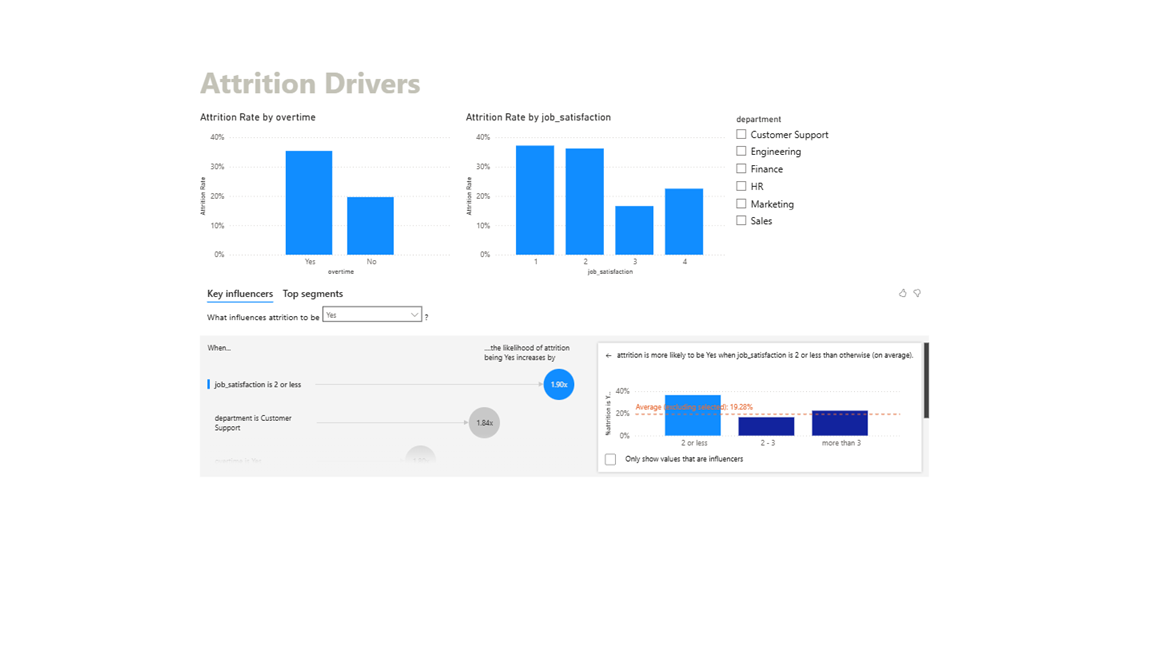

This screenshot's page, from the dashboard's own definition file:
{"tool":"powerbi","page":{"name":"Drivers","canvas":[1280,720],"ordinal":1},"visuals":[{"type":"clusteredColumnChart","fields":{"Y":["fact_employees_clean.Attrition Rate"],"Category":["fact_employees_clean.overtime"]},"box":[0,86,430,280],"z":0},{"type":"clusteredColumnChart","fields":{"Y":["fact_employees_clean.Attrition Rate"],"Category":["fact_employees_clean.job_satisfaction"]},"box":[444,86,442,280],"z":1},{"type":"keyDriversVisual","fields":{"Target":["fact_employees_clean.attrition"],"ExplainBy":["fact_employees_clean.overtime","fact_employees_clean.job_satisfaction","fact_employees_clean.worklife_balance","fact_employees_clean.department","fact_employees_clean.tenure_years"]},"box":[0,366,1226,336],"z":2},{"type":"slicer","fields":{"Values":["fact_employees_clean.department"]},"box":[886,86,340,280],"z":3},{"type":"textbox","box":[0,0,560,86.7],"z":4}]}

Visuals, with their boxes in screenshot pixels (x1, y1, x2, y2), scaled from the page's 1280x720 canvas onto the 1152x648 screenshot:
clusteredColumnChart - fact_employees_clean.Attrition Rate x fact_employees_clean.overtime: 0 77 387 329
clusteredColumnChart - fact_employees_clean.Attrition Rate x fact_employees_clean.job_satisfaction: 400 77 797 329
keyDriversVisual - fact_employees_clean.attrition x fact_employees_clean.overtime: 0 329 1103 632
slicer - fact_employees_clean.department: 797 77 1103 329
textbox: 0 0 504 78
